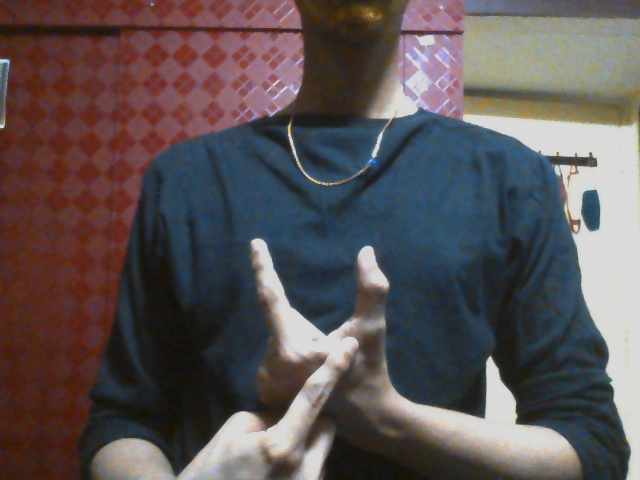Y: (186, 238, 390, 480)
